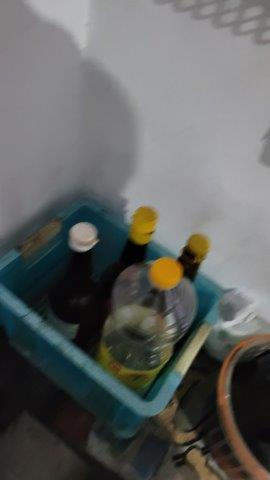botolkaca: (57, 194, 215, 358)
